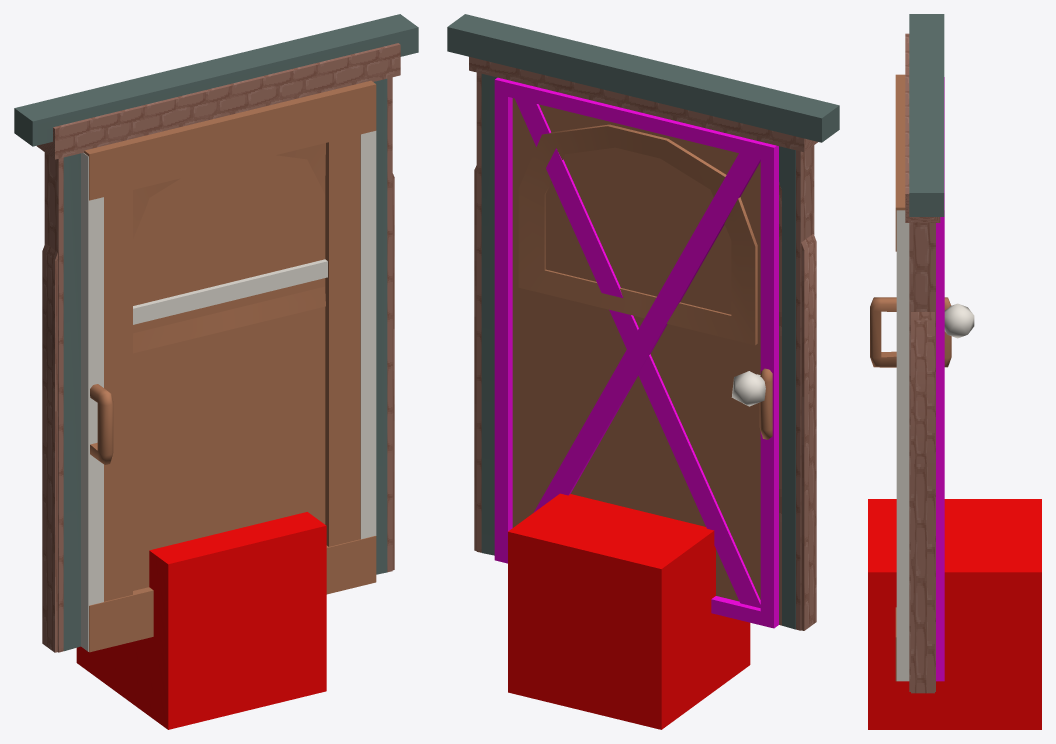
Rendered from Door_Prefab.fbx.
3 renders of one model, left to right at view 1: azimuth 30°, elevation 25°; view 2: azimuth 150°, elevation 25°; view 3: azimuth 270°, elevation 25°, orthographic. The views are drawn at different scales.
Visible parts, largest first — view 1: Door, Entry_Exit_Zone, BarnDoorFrame, GlassDoor, Door_Frame, ArchDoorFrame, ArchDoor; view 2: BarnDoor, Entry_Exit_Zone, BarnDoorFrame, ArchDoor, Door_Frame, ArchDoorFrame, GlassDoor; view 3: Entry_Exit_Zone, ArchDoorFrame, GlassDoor, BarnDoorFrame, Door_Frame, BarnDoor, Door, ArchDoor.
Part boxes in pixels (bbox=[...]): Door: bbox=[84, 80, 376, 652]; Entry_Exit_Zone: bbox=[76, 512, 326, 729]; BarnDoorFrame: bbox=[14, 14, 418, 651]; GlassDoor: bbox=[81, 131, 376, 651]; Door_Frame: bbox=[37, 43, 400, 652]; ArchDoorFrame: bbox=[42, 173, 394, 652]; ArchDoor: bbox=[133, 143, 325, 353]; BarnDoor: bbox=[494, 77, 778, 628]; Entry_Exit_Zone: bbox=[508, 493, 750, 729]; BarnDoorFrame: bbox=[447, 14, 839, 629]; ArchDoor: bbox=[518, 124, 765, 406]; Door_Frame: bbox=[469, 57, 817, 630]; ArchDoorFrame: bbox=[474, 165, 816, 630]; GlassDoor: bbox=[759, 368, 772, 439]; Entry_Exit_Zone: bbox=[868, 499, 1041, 729]; ArchDoorFrame: bbox=[911, 312, 934, 693]; GlassDoor: bbox=[870, 210, 951, 681]; BarnDoorFrame: bbox=[909, 14, 944, 216]; Door_Frame: bbox=[905, 33, 940, 691]; BarnDoor: bbox=[936, 77, 944, 681]; Door: bbox=[895, 74, 905, 681]; ArchDoor: bbox=[944, 303, 974, 338].
Size of the model in its own units: 2.44 by 3.74 by 1.
